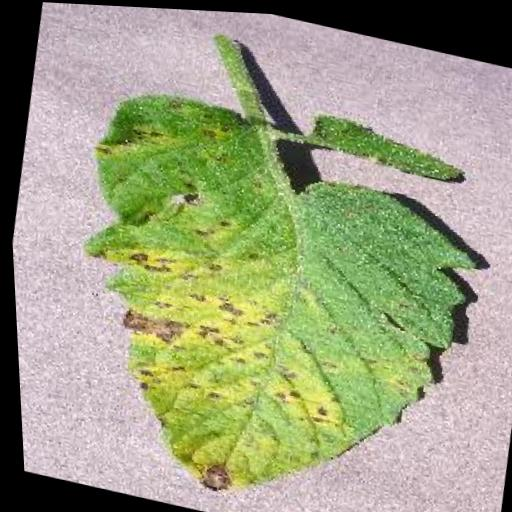Septoria: (37, 76, 509, 512)
